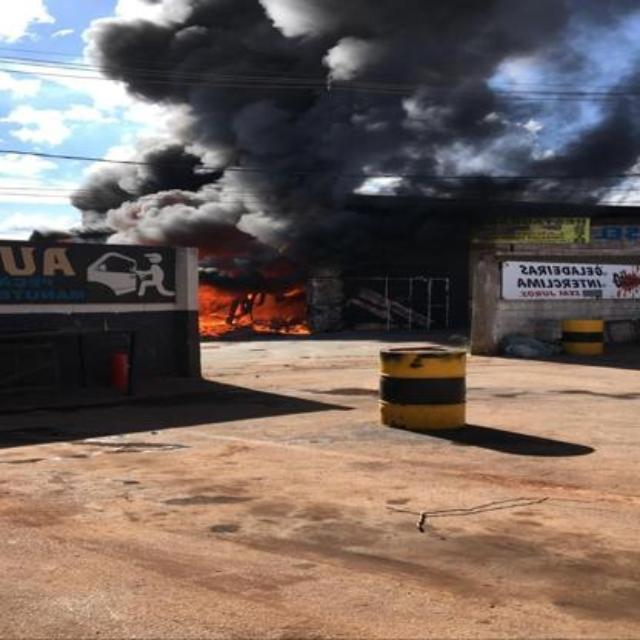Fire: (178, 241, 318, 343)
Smoke: (63, 1, 640, 235)
